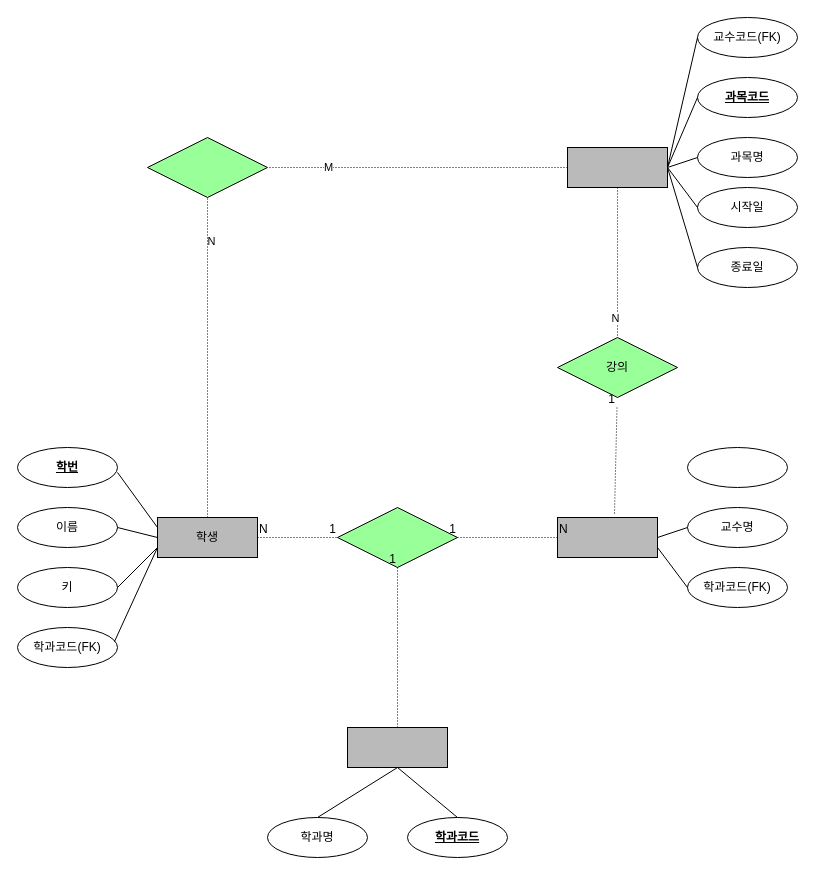
This 815x875 diagram has some shape labels left out. Each missing label, with the box of its shape:
과목: (566, 146, 668, 188)
교수: (556, 516, 658, 558)
교수코드: (686, 446, 788, 488)
소속: (336, 506, 458, 568)
수강: (146, 136, 268, 198)
학과: (346, 726, 448, 768)
